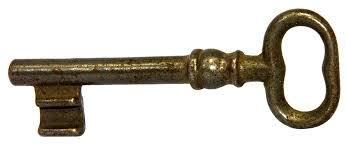key: (10, 9, 340, 137)
